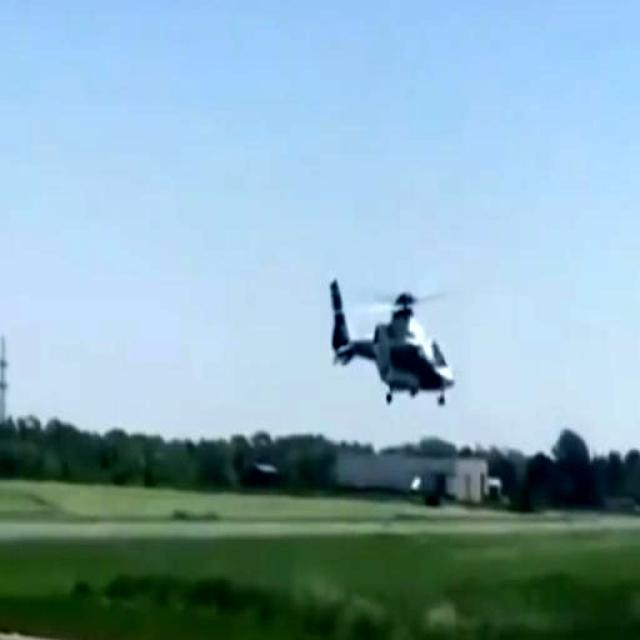drone: (312, 235, 469, 429)
